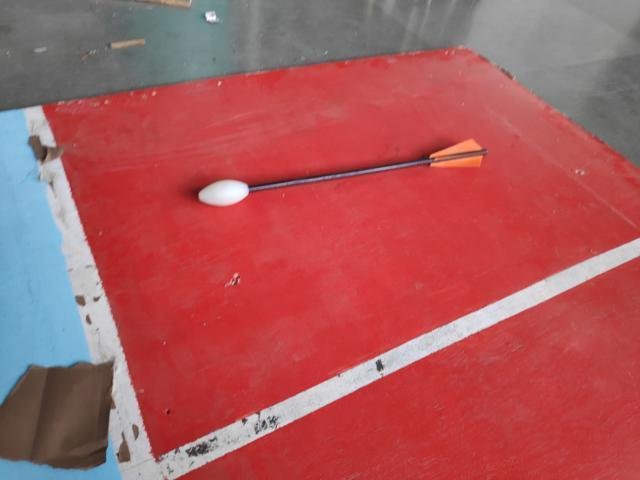Head: (193, 174, 254, 211)
Tail: (426, 137, 490, 172)
